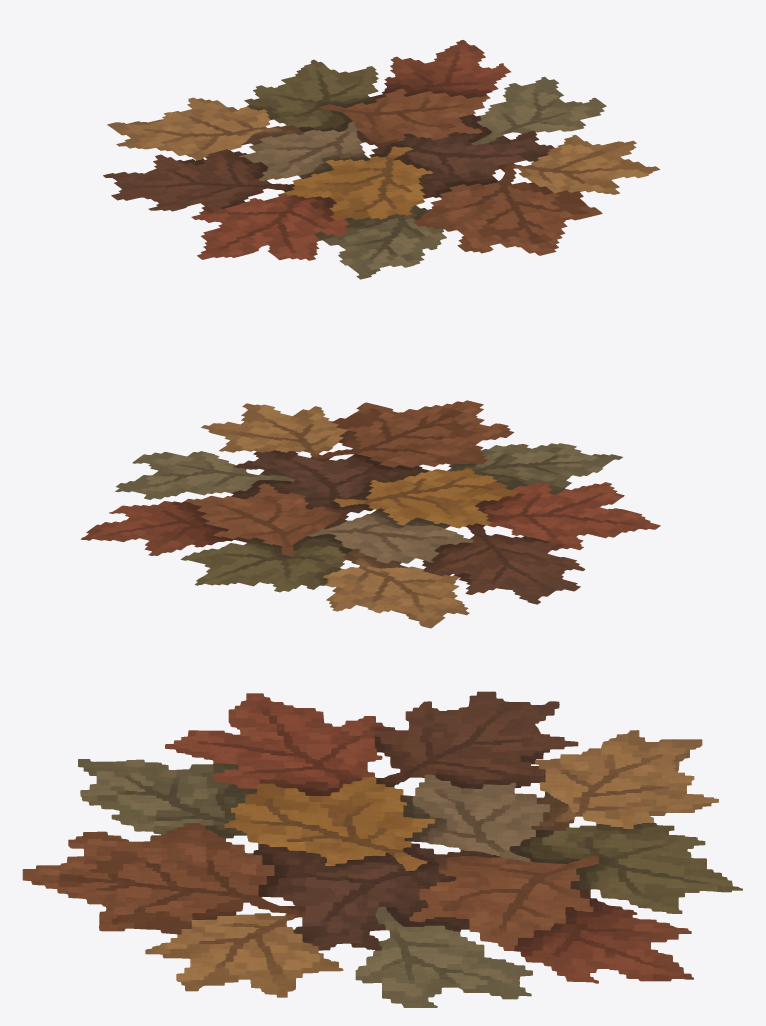
Rendered from SM_D11_LeavesPile.fbx.
3 views of the same model, one above another, from view 1: azimuth 30°, elevation 25°; view 2: azimuth 150°, elevation 25°; view 3: azimuth 270°, elevation 25° (orthographic). The views are drawn at different scales.
Visible parts, largest first — view 1: D11_Decal; view 2: D11_Decal; view 3: D11_Decal.
Part boxes in pixels (x1,y1,x2,y2): D11_Decal: (103, 40, 659, 279); D11_Decal: (80, 400, 660, 628); D11_Decal: (22, 691, 742, 1007).
Size of the model in its own units: 0.9 by 0.008 by 0.867.
